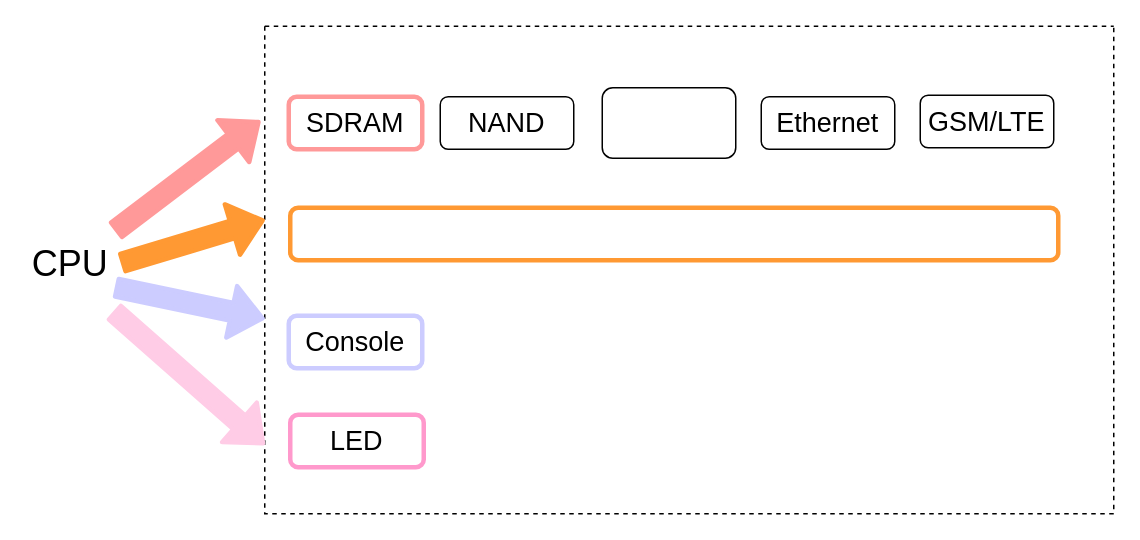
Image size: 1140x540. Some labels were removed from this diagram. The shapes that lost their labels are listed below. From the top down, each one's centre as x and y in pixels, then its label:
pixel 668 122: SPI FLASH
pixel 673 233: RS232, RS485, CAN, Powerlink, UART, USB
